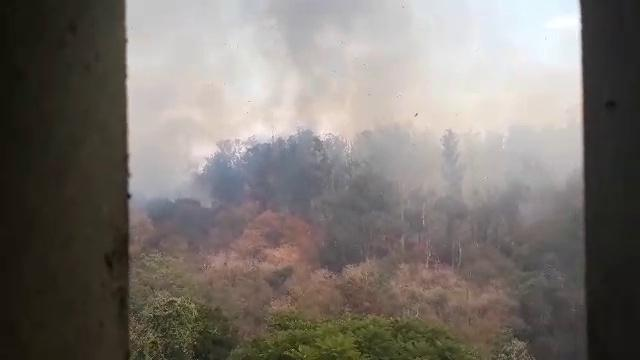smoke: (135, 51, 190, 203)
